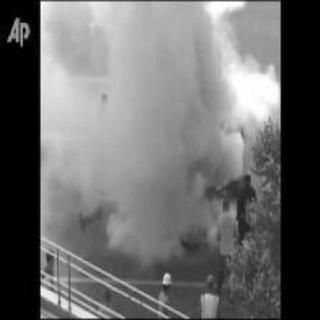Smoke: (42, 3, 256, 249)
